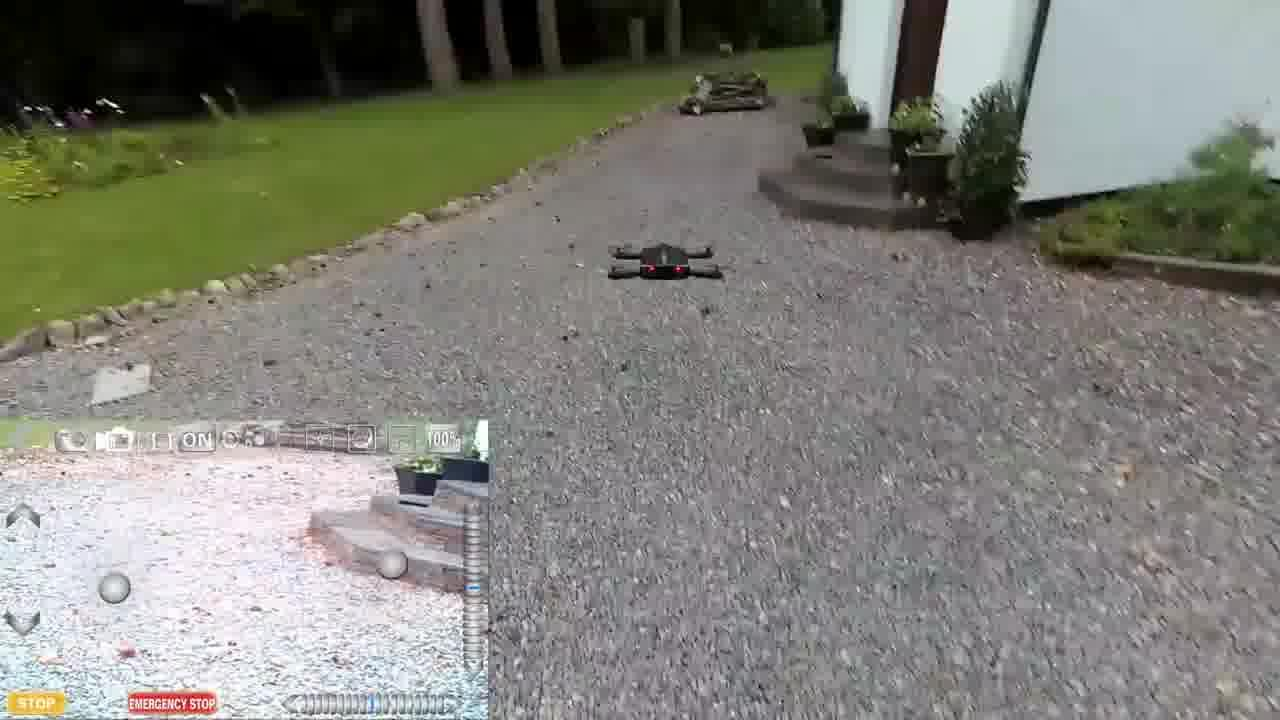drone: (597, 232, 733, 296)
